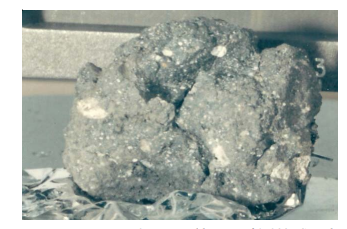Breccia: (57, 9, 322, 218), (130, 70, 272, 198)
